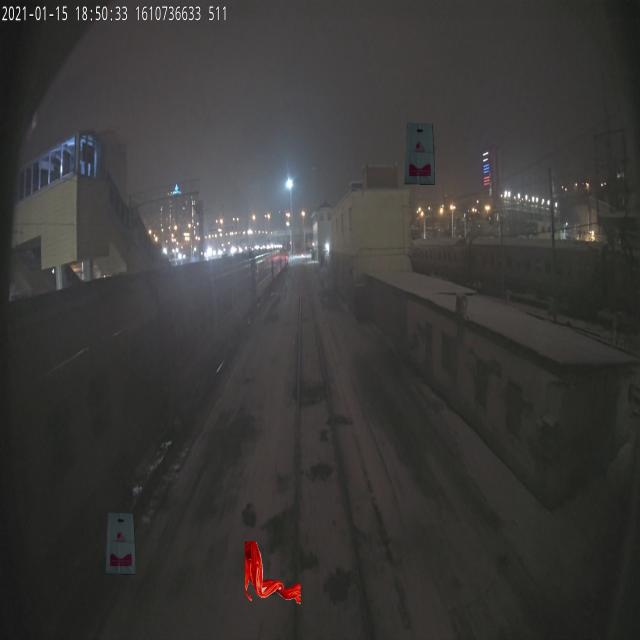floating object: (244, 540, 300, 604)
plastic bag: (404, 122, 435, 186), (105, 512, 136, 576)
